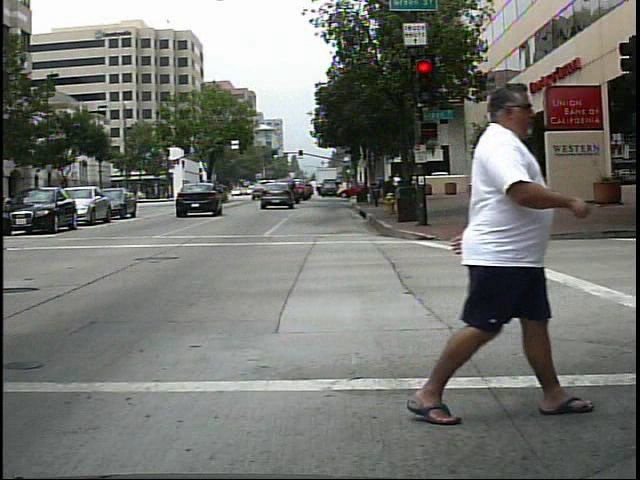person: (400, 72, 584, 429)
